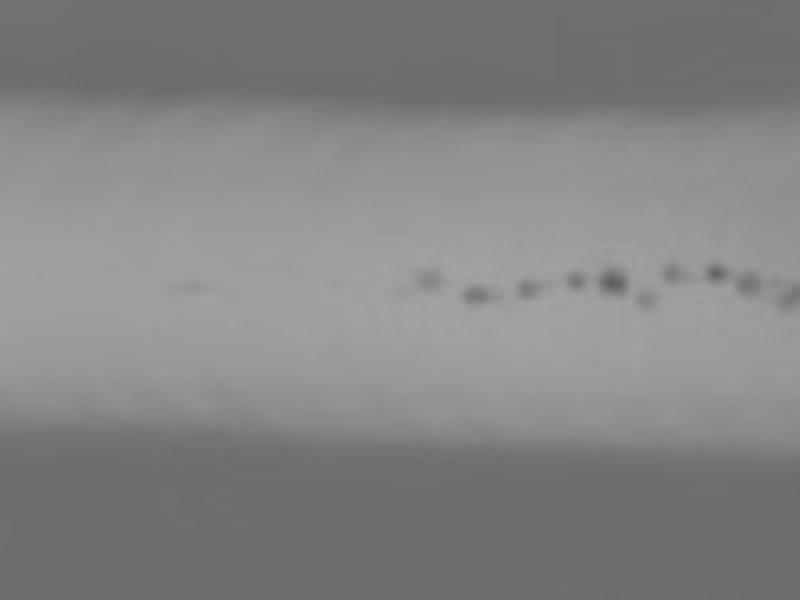defect: (409, 262, 447, 294), (599, 266, 629, 299), (700, 258, 731, 287), (464, 279, 496, 305), (734, 270, 762, 299), (659, 260, 687, 286), (513, 277, 543, 299), (567, 266, 589, 293), (637, 289, 660, 313), (182, 274, 208, 293), (776, 288, 797, 308), (392, 282, 411, 300)
